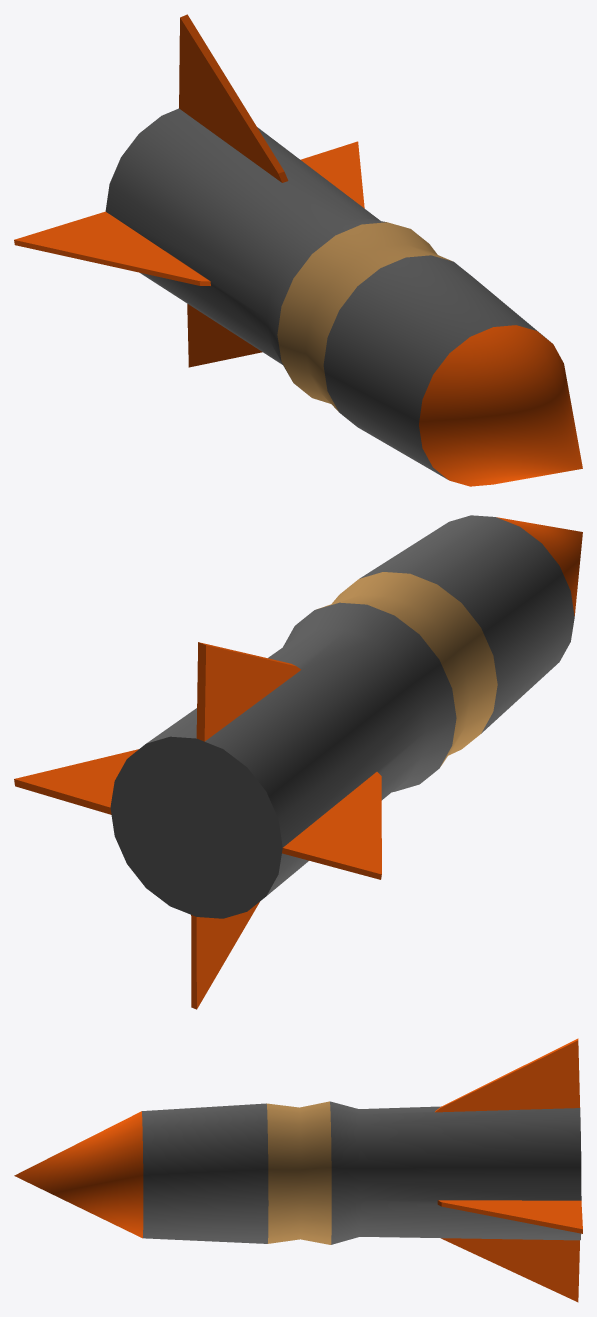
The model's file is Missile.fbx.
3 views of the same model, one above another, from view 1: azimuth 30°, elevation 25°; view 2: azimuth 150°, elevation 25°; view 3: azimuth 270°, elevation 25° (orthographic). The views are drawn at different scales.
Visible parts, largest first — view 1: pCone1; view 2: pCone1; view 3: pCone1.
Boxes of the visible parts, x1,y1,x2,y2 form: pCone1: [14, 14, 582, 486]; pCone1: [14, 515, 582, 1009]; pCone1: [14, 1038, 582, 1302].
Bounding box in the file's own units: 49.06 × 47.51 × 93.97.
